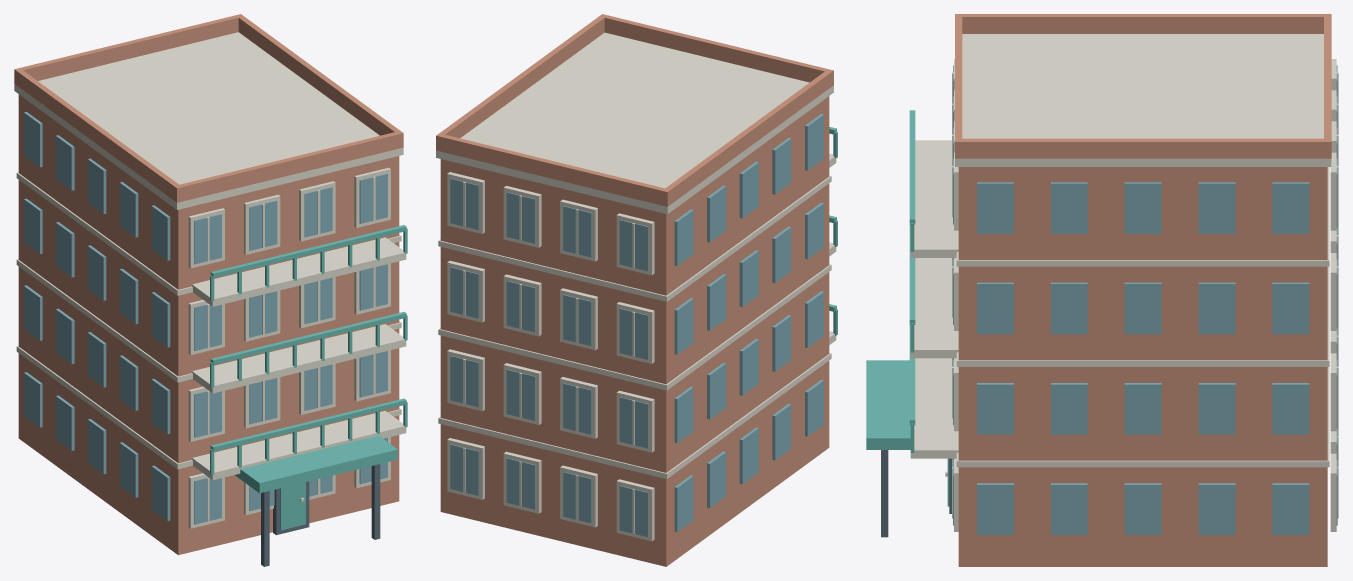
3 views of the same model, side by side, from view 1: azimuth 30°, elevation 25°; view 2: azimuth 150°, elevation 25°; view 3: azimuth 270°, elevation 25° (orthographic). The views are drawn at different scales.
Visible parts, largest first — view 1: hotel-canopy-brick, hotel-canopy-concrete, hotel-canopy-glass, hotel-canopy-accent, hotel-canopy-dark; view 2: hotel-canopy-brick, hotel-canopy-concrete, hotel-canopy-glass, hotel-canopy-accent; view 3: hotel-canopy-brick, hotel-canopy-concrete, hotel-canopy-glass, hotel-canopy-accent, hotel-canopy-dark.
Boxes of the visible parts, left/top/right/bottom form: hotel-canopy-brick: left=14, top=14, right=403, bottom=555; hotel-canopy-concrete: left=14, top=32, right=406, bottom=528; hotel-canopy-glass: left=24, top=112, right=387, bottom=524; hotel-canopy-accent: left=210, top=225, right=407, bottom=530; hotel-canopy-dark: left=261, top=464, right=380, bottom=566; hotel-canopy-brick: left=436, top=14, right=833, bottom=566; hotel-canopy-concrete: left=436, top=32, right=836, bottom=541; hotel-canopy-glass: left=450, top=114, right=823, bottom=536; hotel-canopy-accent: left=829, top=127, right=837, bottom=335; hotel-canopy-brick: left=955, top=14, right=1331, bottom=566; hotel-canopy-concrete: left=910, top=34, right=1338, bottom=531; hotel-canopy-glass: left=953, top=65, right=1337, bottom=534; hotel-canopy-accent: left=866, top=110, right=949, bottom=506; hotel-canopy-dark: left=881, top=450, right=951, bottom=537.
Size of the model in its own units: 8.2 by 12.75 by 12.79.
